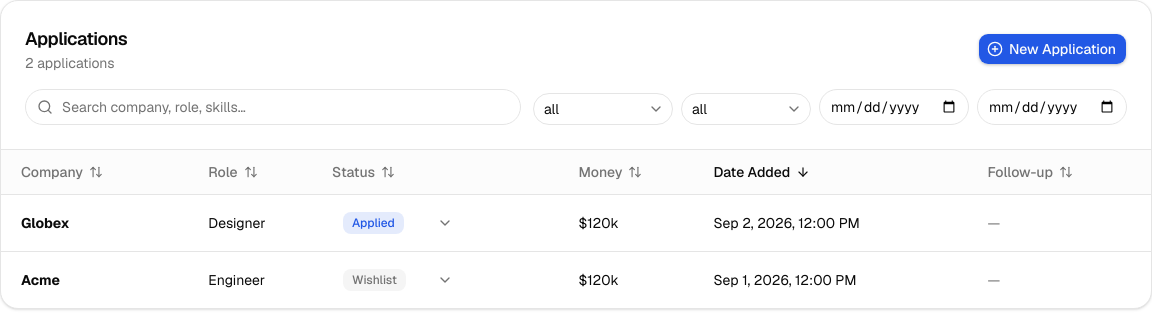
Scenario: ApplicationsDashboard › sorts by company when the column header is clicked
What coordinates should you click on to do the following:
click the button "Company"
I would click on:
 (62, 172)
Its box is top-left (21, 162), bottom-right (103, 182).
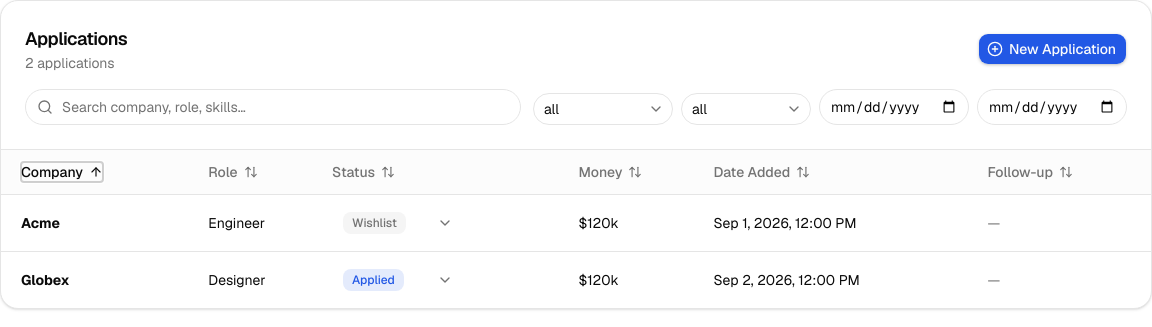
Expected: the links read "Acme", "Globex", in this order, top-left (21, 214), bottom-right (60, 232); top-left (21, 270), bottom-right (70, 288)
